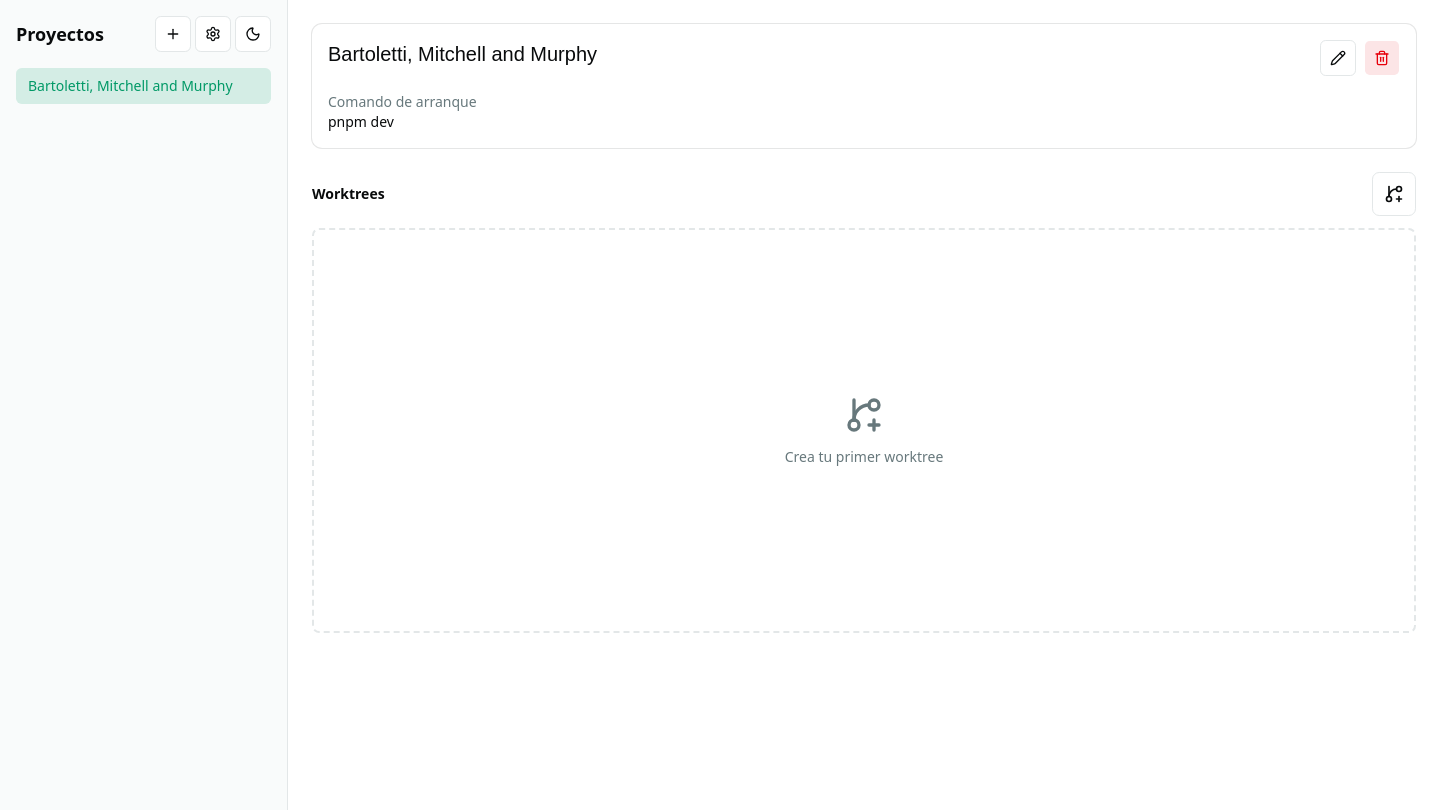
it: app routes › should create a worktree from the default branch and list it
The image size is (1440, 810).
Expected: the text "Crea tu primer worktree" is shown, [785,446,943,466]
Click the button named "Crear worktree" at point(1394, 194), box [1372,172,1416,216]
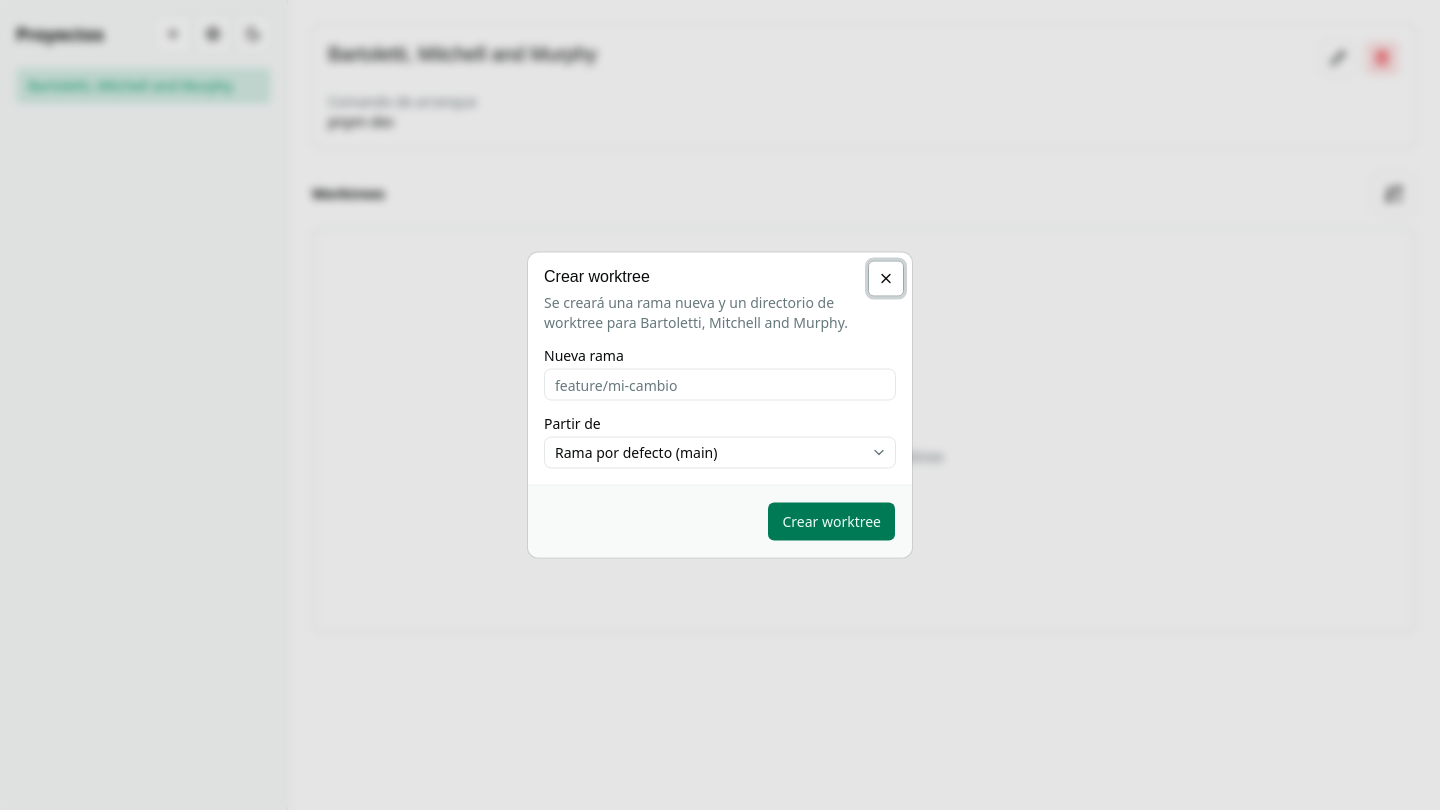
Type "feature-a" into the field labelled "Nueva rama" at point(720, 384), box [544,368,896,400]
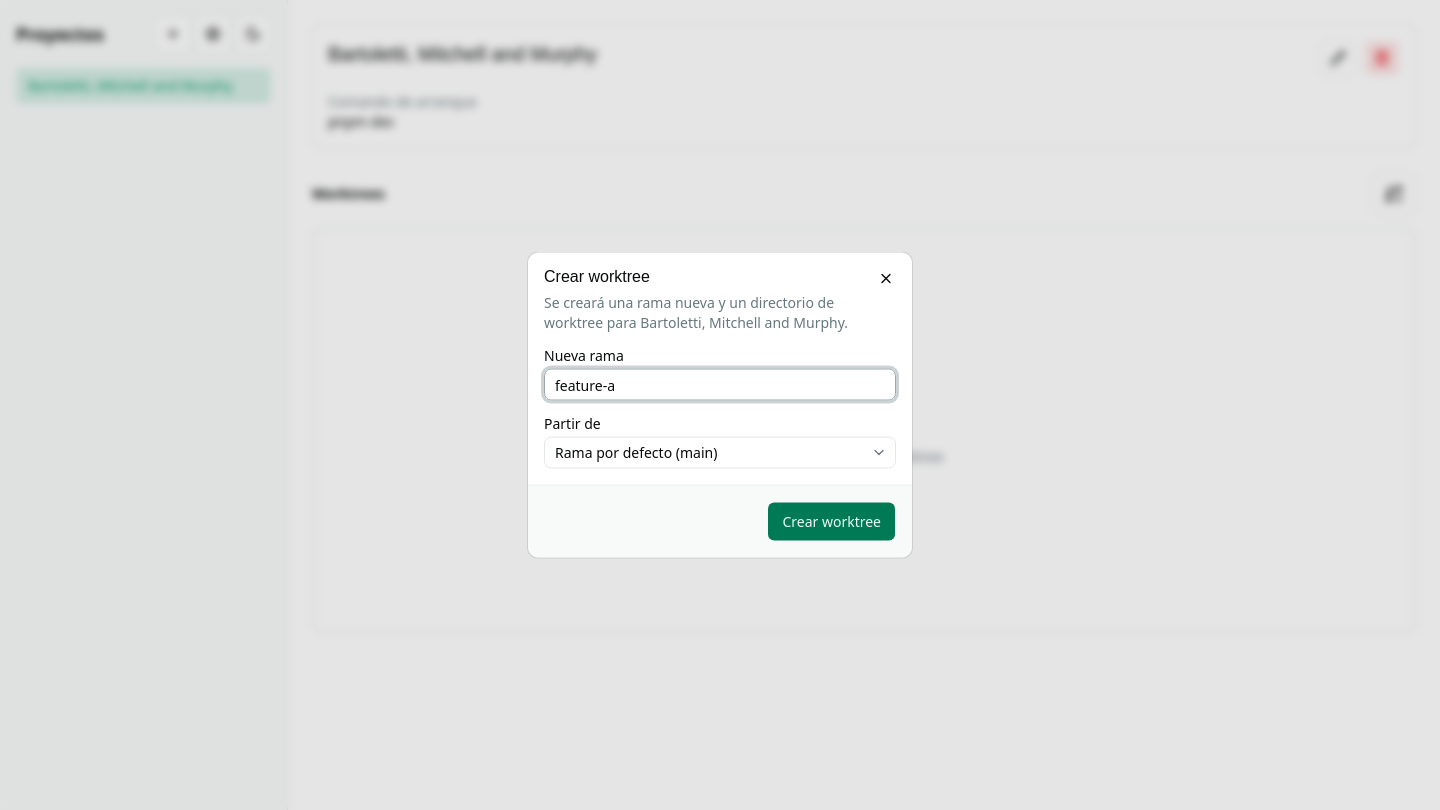
Click the button "Crear worktree" at point(832, 522), box [767,502,896,542]
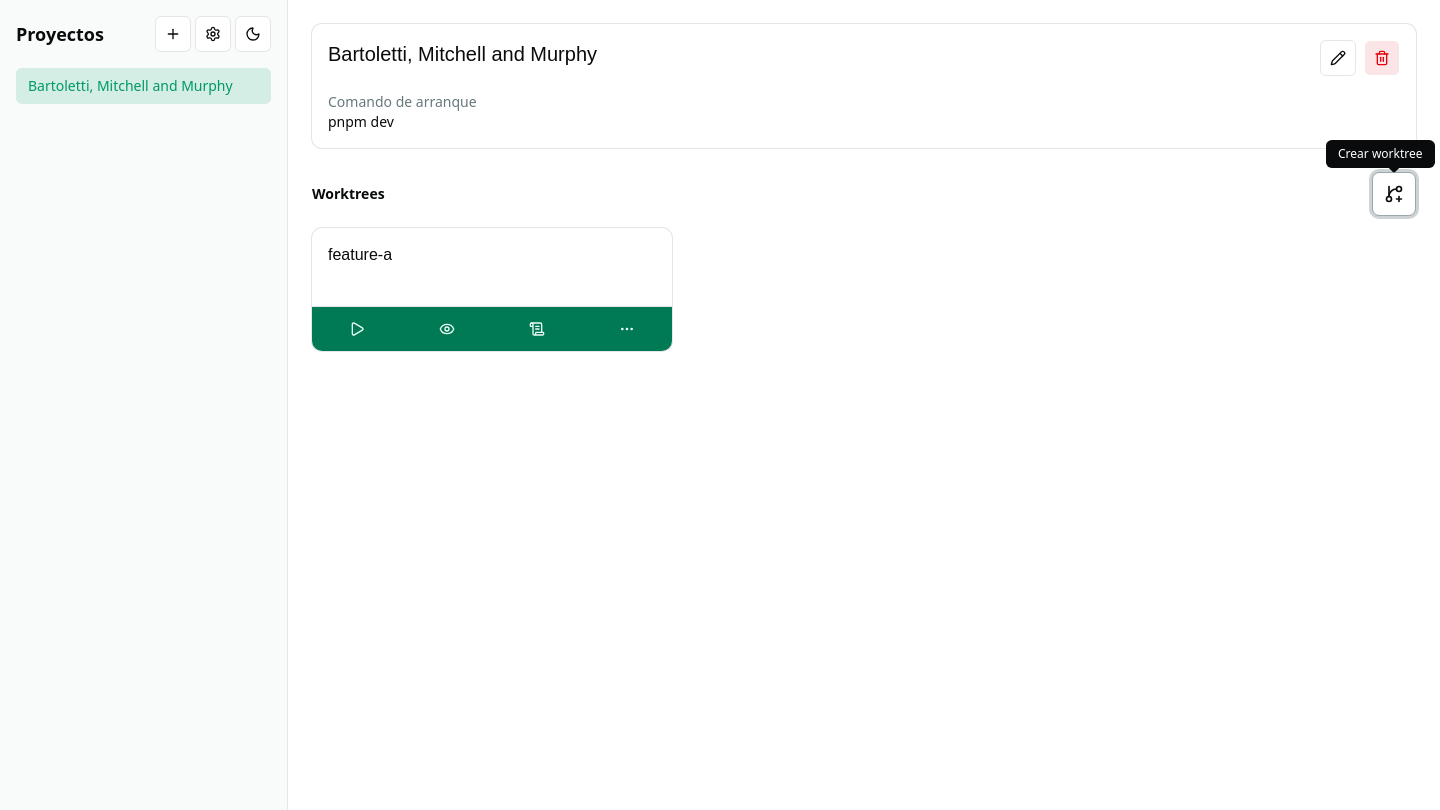
Expected: the heading "feature-a" is shown, [328,244,392,266]
